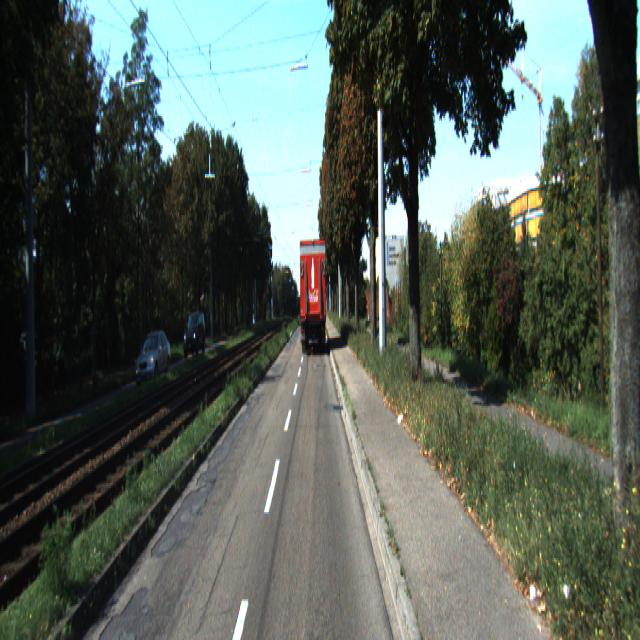Car: (298, 237, 328, 357), (134, 327, 172, 388), (183, 311, 206, 358)
